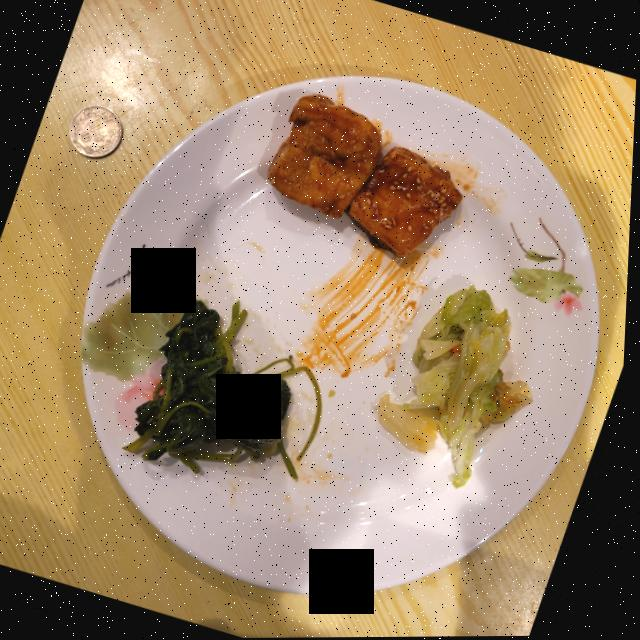cabbage: (378, 285, 536, 487)
coin: (70, 105, 123, 157)
creamy tofu: (269, 93, 463, 256)
sweet potato leaves: (127, 299, 325, 479)
